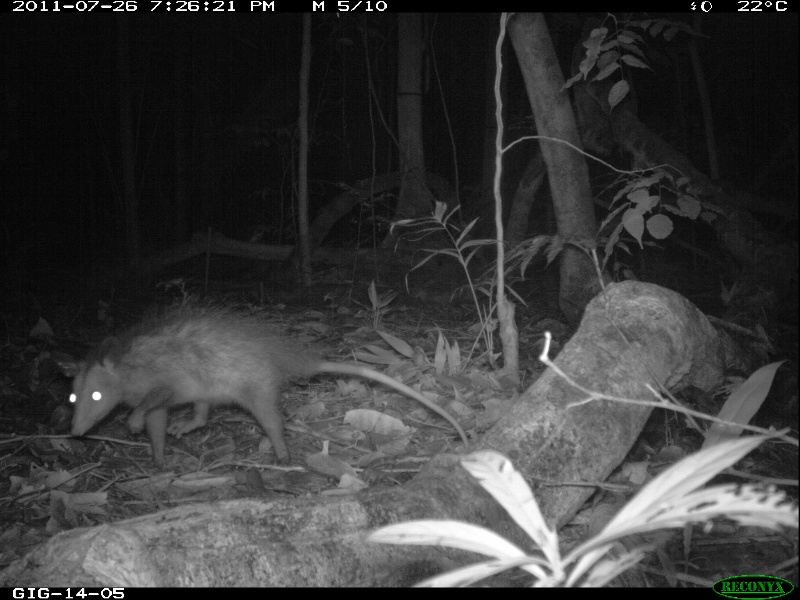opossum: (59, 304, 469, 464)
